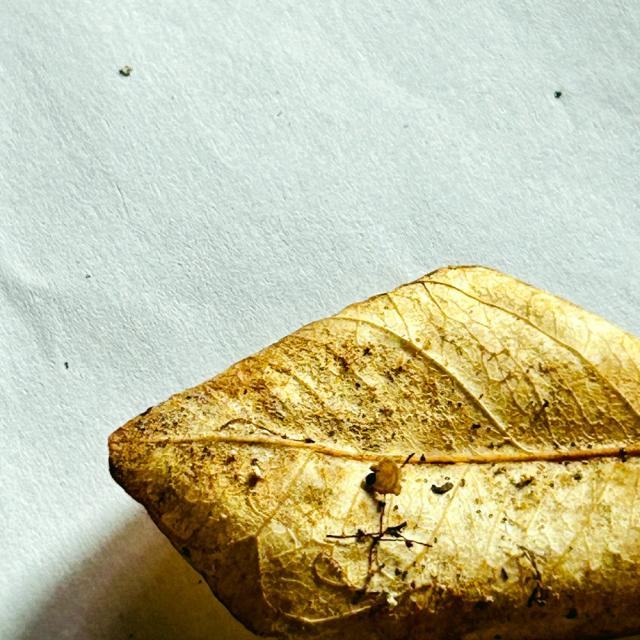DryLeaf_Lemon: (109, 267, 639, 639)
